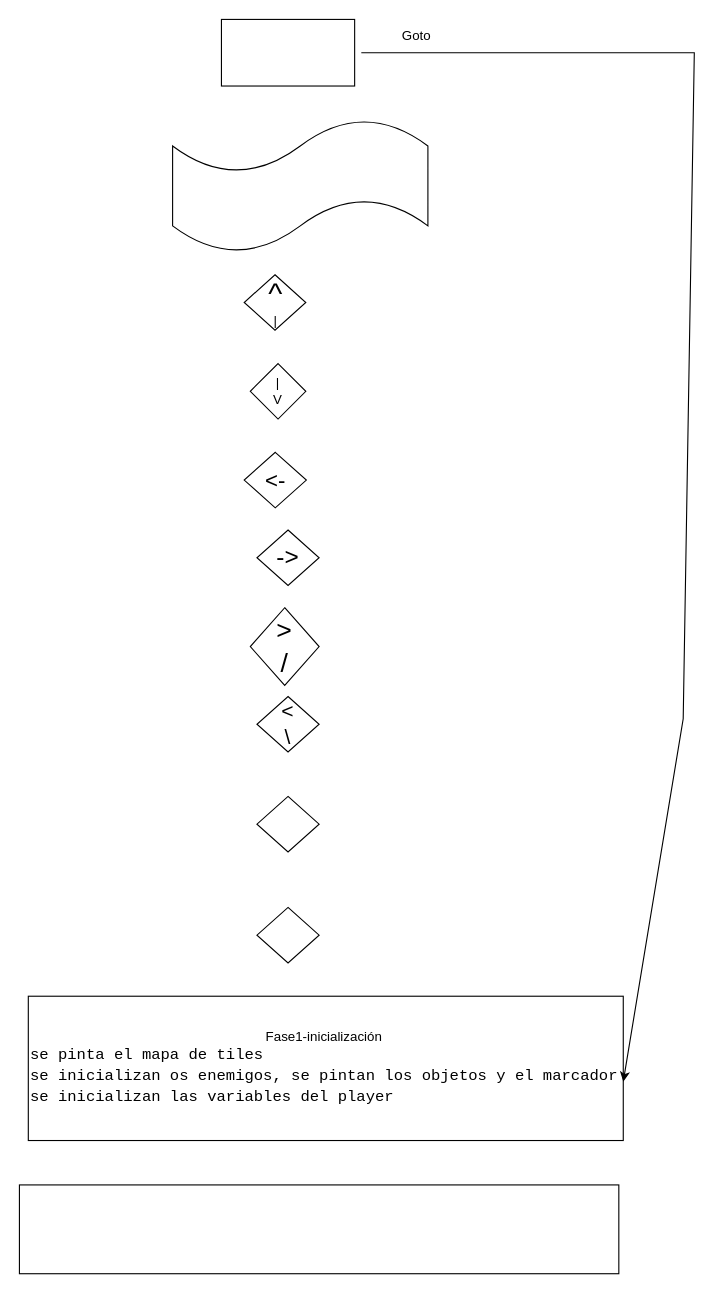
Some shapes in this 723 by 1293 pixel diagram are drawn without their labels. Each missing label, with the centre of its shape:
Fase 1 - actualización pintamos los enemigos Actualizamos los enemigos: the point at 318,1229
Inicializar MSX: the point at 287,52
Sistema de input: the point at 299,185
